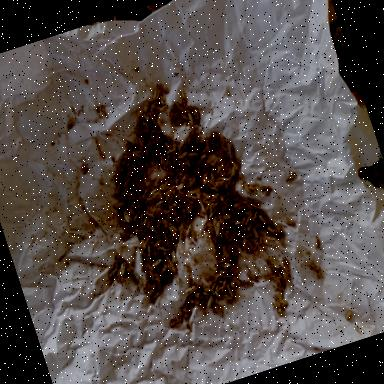pbw: (279, 254, 292, 276), (246, 180, 260, 198), (260, 207, 273, 226), (190, 282, 204, 298), (212, 300, 225, 316), (194, 152, 210, 165), (218, 278, 231, 294), (266, 258, 278, 274), (194, 296, 206, 312), (156, 154, 168, 170), (284, 171, 298, 184), (211, 221, 223, 236), (192, 107, 202, 124), (168, 224, 178, 241), (162, 154, 174, 168), (130, 148, 144, 160), (150, 87, 162, 101), (142, 262, 154, 276), (220, 291, 234, 303), (122, 208, 134, 222), (184, 129, 195, 144), (130, 136, 146, 146), (140, 118, 150, 134), (148, 111, 158, 127), (218, 192, 228, 208), (128, 267, 138, 283), (312, 234, 322, 250), (184, 190, 197, 202), (168, 220, 179, 234), (176, 307, 186, 322), (170, 152, 180, 167), (188, 225, 198, 240), (118, 228, 130, 240), (219, 148, 228, 164), (204, 295, 216, 307), (308, 261, 320, 273), (143, 207, 155, 219), (138, 187, 150, 199), (203, 138, 212, 154), (238, 237, 249, 250), (121, 176, 134, 187), (167, 188, 178, 201), (142, 143, 152, 157), (154, 148, 164, 162), (146, 259, 156, 273), (168, 140, 178, 154), (148, 106, 158, 120), (149, 290, 163, 300), (184, 284, 198, 294), (258, 212, 268, 226), (228, 164, 238, 178), (124, 220, 134, 234), (163, 231, 171, 248), (226, 281, 234, 298), (250, 200, 262, 211), (131, 210, 142, 222), (110, 172, 121, 184), (107, 267, 119, 278), (113, 181, 123, 194), (187, 149, 200, 159), (144, 267, 152, 283), (176, 150, 188, 160), (180, 140, 190, 152), (168, 316, 180, 326), (246, 269, 256, 281), (178, 174, 188, 186), (262, 186, 274, 196), (232, 199, 244, 209), (228, 273, 236, 288), (228, 144, 236, 159), (152, 153, 160, 168), (118, 263, 128, 275), (158, 180, 170, 190), (232, 274, 242, 286), (276, 270, 284, 285), (168, 204, 177, 217), (168, 249, 177, 262), (166, 213, 175, 226), (210, 165, 218, 179), (243, 181, 251, 195), (117, 170, 125, 184), (187, 110, 195, 124), (138, 228, 149, 238), (134, 163, 145, 173), (114, 200, 125, 210), (149, 224, 159, 235), (182, 102, 193, 112), (238, 215, 248, 226), (184, 224, 194, 235), (135, 180, 145, 191), (152, 176, 162, 187), (144, 215, 152, 228), (180, 112, 190, 122), (344, 310, 354, 320), (169, 109, 180, 118), (246, 238, 254, 250), (252, 226, 260, 238), (158, 82, 166, 94), (124, 190, 136, 198), (170, 200, 182, 208), (138, 136, 146, 148), (150, 258, 162, 266), (286, 218, 296, 227), (134, 225, 144, 234), (239, 232, 250, 240), (210, 131, 218, 142), (148, 188, 158, 196), (206, 130, 214, 140), (158, 104, 168, 112), (258, 182, 268, 190), (156, 83, 162, 95), (122, 186, 130, 195), (218, 269, 228, 276), (120, 160, 127, 170), (128, 206, 135, 216), (236, 204, 247, 210), (243, 217, 251, 225), (222, 212, 230, 220), (210, 282, 218, 290), (246, 222, 254, 230), (224, 159, 231, 168), (208, 278, 218, 284), (354, 324, 360, 334), (234, 230, 242, 237), (216, 230, 222, 238), (166, 148, 174, 154)
